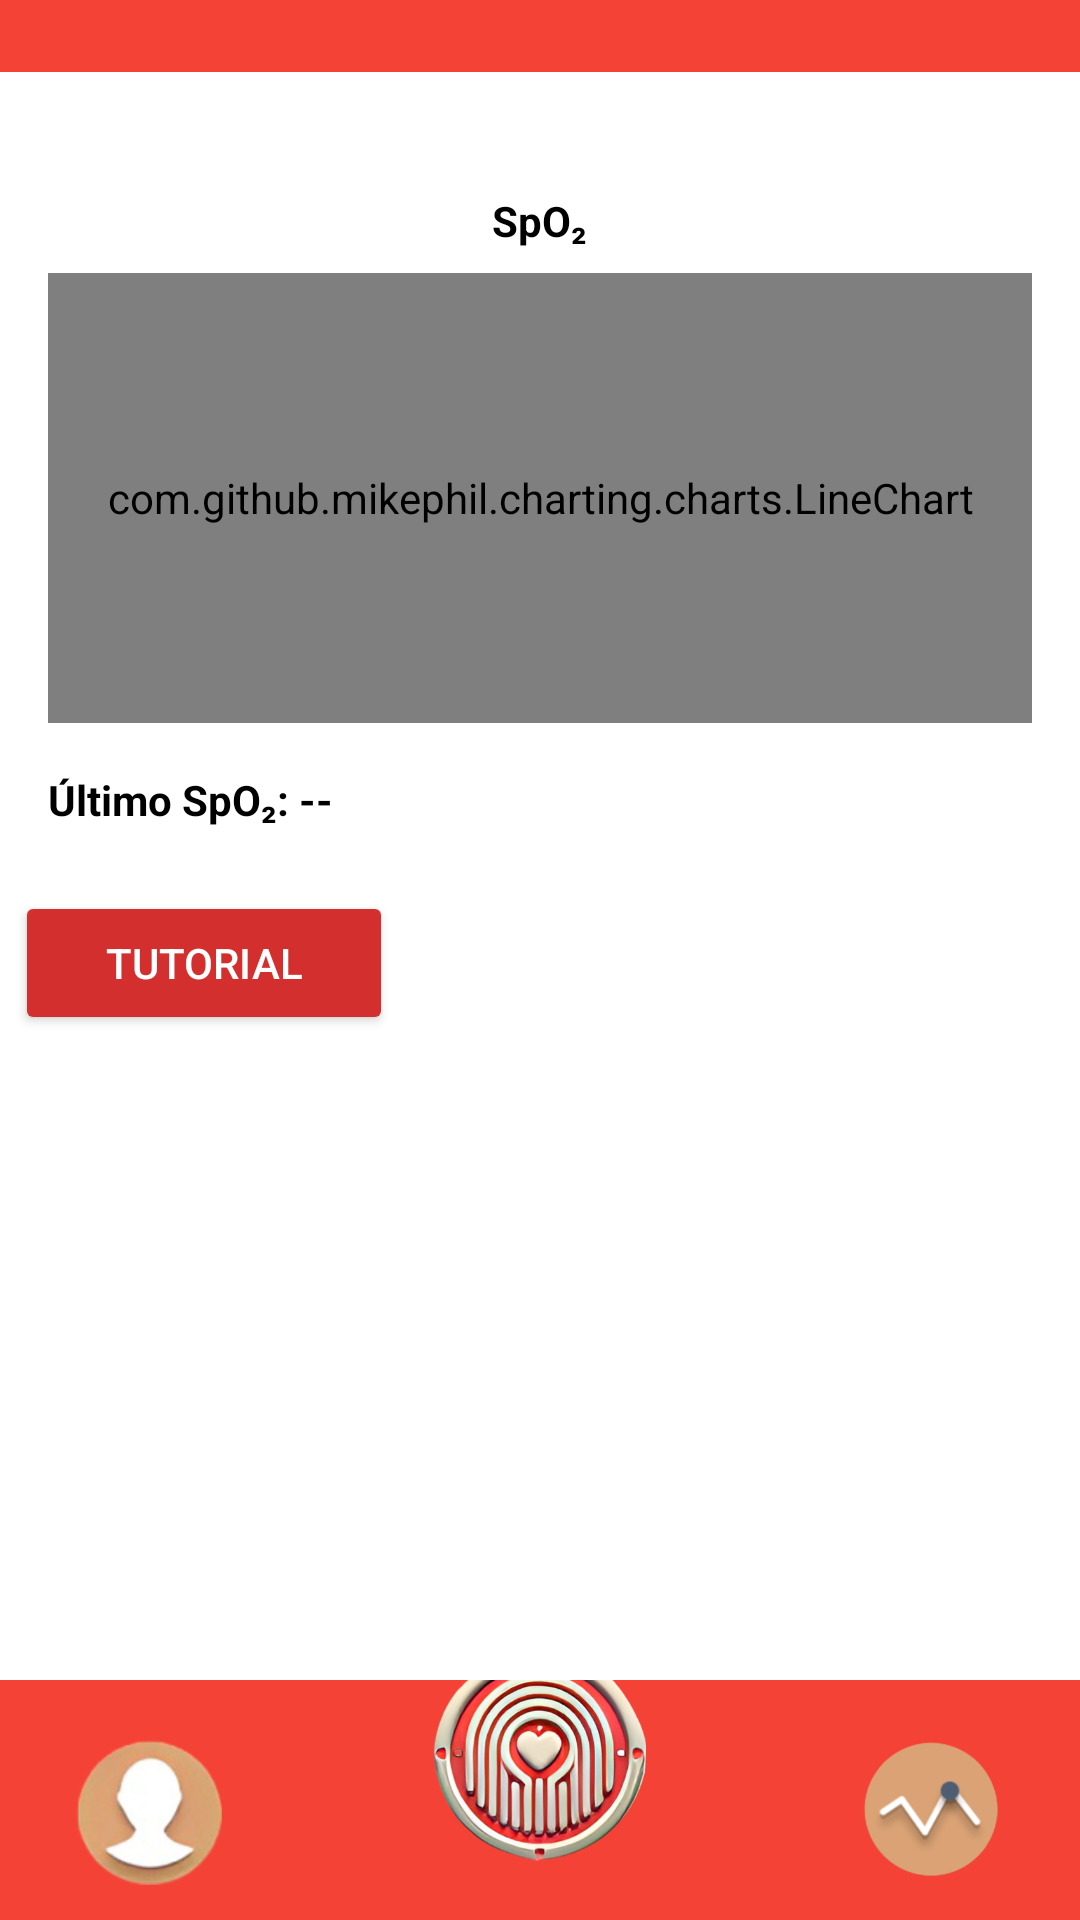

Icons on this 1080×1920 Android screen, each with its box as rect(x1, y1, x2, y2):
Botón historial: rect(864, 1742, 998, 1876)
Botón perfil: rect(78, 1741, 222, 1885)
